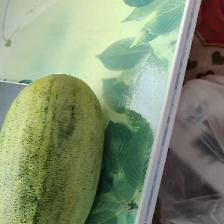gua: (15, 84, 86, 224)
